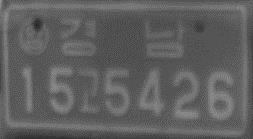1: (20, 65, 38, 113)
2: (172, 68, 201, 121)
4: (138, 66, 166, 116)
5: (47, 64, 76, 114), (104, 67, 132, 116)
6: (206, 69, 235, 122)
경남_D: (56, 14, 189, 59)
고: (75, 66, 102, 115)
영: (19, 17, 51, 58)
